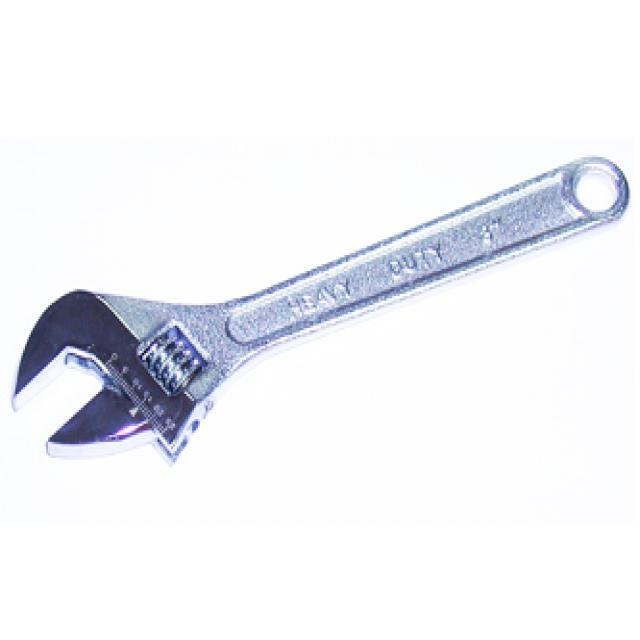wrench: (3, 150, 632, 468)
